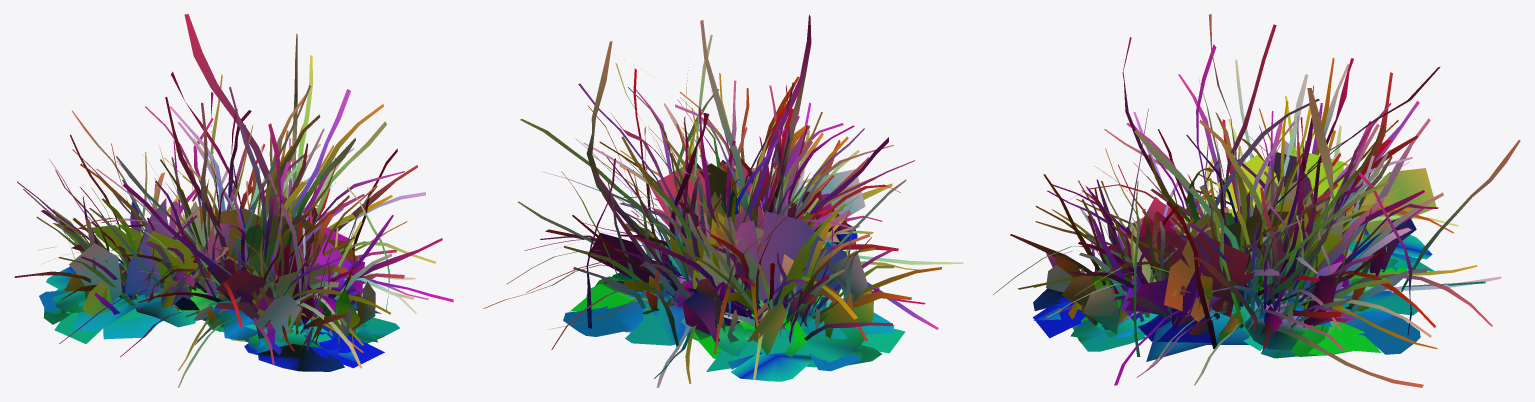
The model's file is Wild_Grass_vdilbaiia_Mid_vdilbaiia_VarJ_LOD1.fbx.
3 renders of one model, left to right at view 1: azimuth 30°, elevation 25°; view 2: azimuth 150°, elevation 25°; view 3: azimuth 270°, elevation 25°, orthographic. The views are drawn at different scales.
Parts seen in each view (by area): view 1: _7m0s_VarJ_LOD2; view 2: _7m0s_VarJ_LOD2; view 3: _7m0s_VarJ_LOD2.
Part boxes in pixels (box(x1,y1,x2,y2)): _7m0s_VarJ_LOD2: box(14, 14, 453, 387); _7m0s_VarJ_LOD2: box(483, 14, 963, 387); _7m0s_VarJ_LOD2: box(993, 14, 1520, 387).
Size of the model in its own units: 105 by 66.77 by 115.
